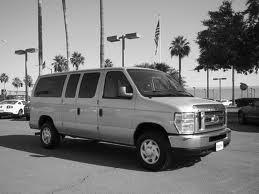car: (32, 68, 232, 173)
